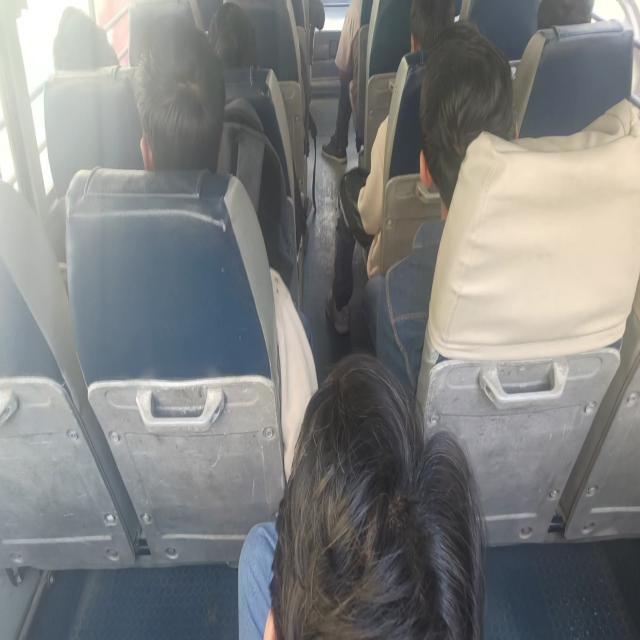person: (285, 371, 484, 640), (414, 52, 517, 211), (142, 19, 224, 175), (55, 6, 120, 81), (209, 0, 260, 71), (392, 0, 460, 53), (523, 0, 599, 43)
